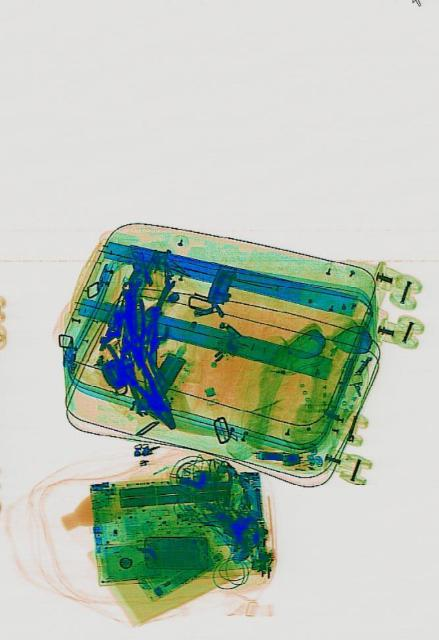Pliers: (101, 320, 182, 438)
